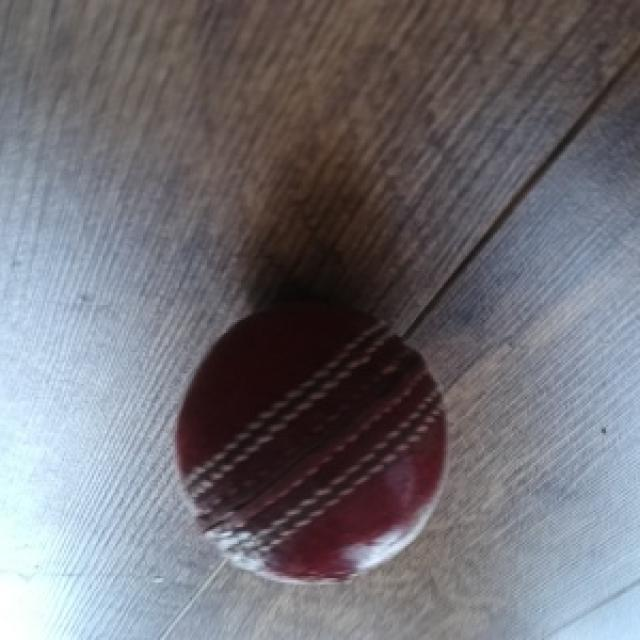ball: (173, 301, 448, 587)
